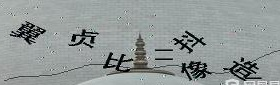chinese: (229, 57, 256, 80), (175, 30, 201, 52), (13, 21, 40, 42), (181, 60, 208, 79), (103, 52, 127, 73), (70, 28, 97, 46)
